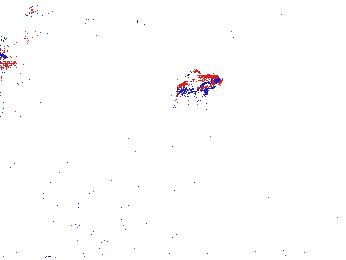red belly glassfish: (172, 73, 221, 96)
redtail glassfish: (18, 4, 109, 42)
